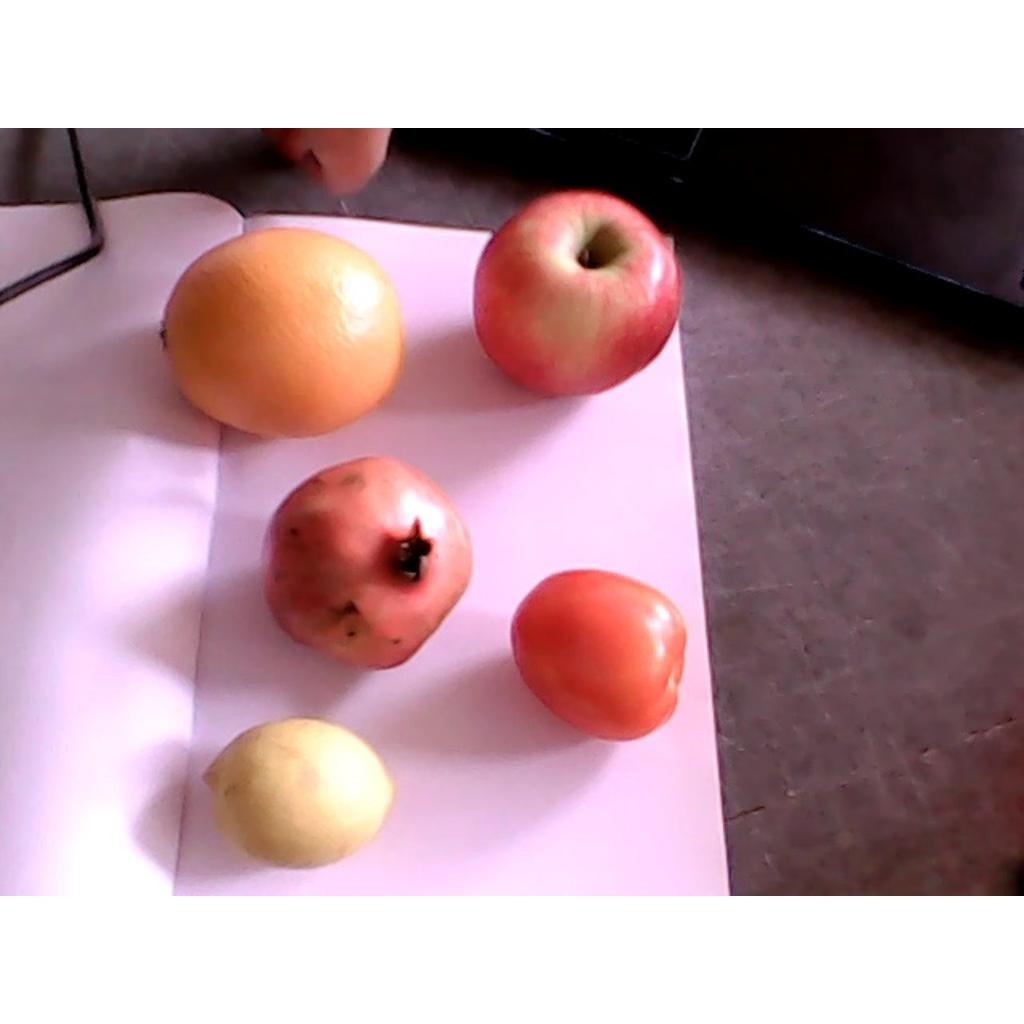apple: (473, 191, 682, 398)
lemon: (200, 717, 393, 869)
orange: (161, 228, 404, 437)
pomegranate: (259, 455, 474, 670)
tomato: (512, 572, 688, 739)
